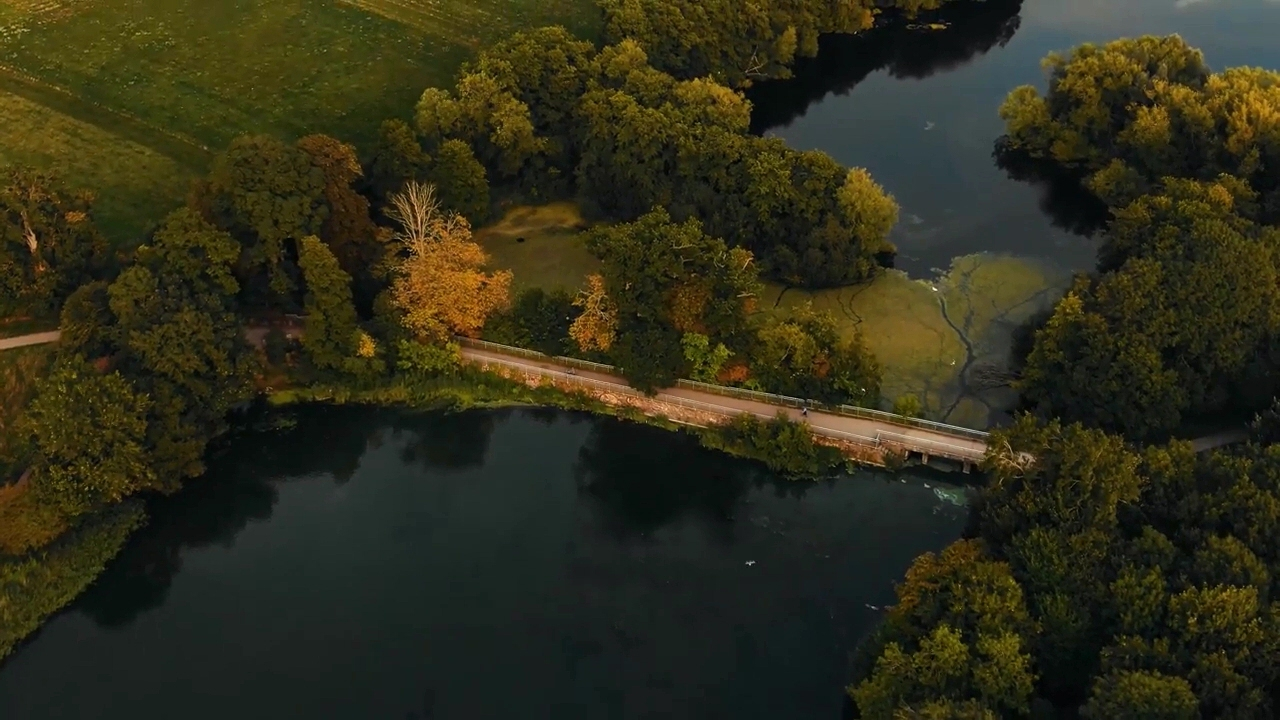insan: (797, 405, 811, 417)
